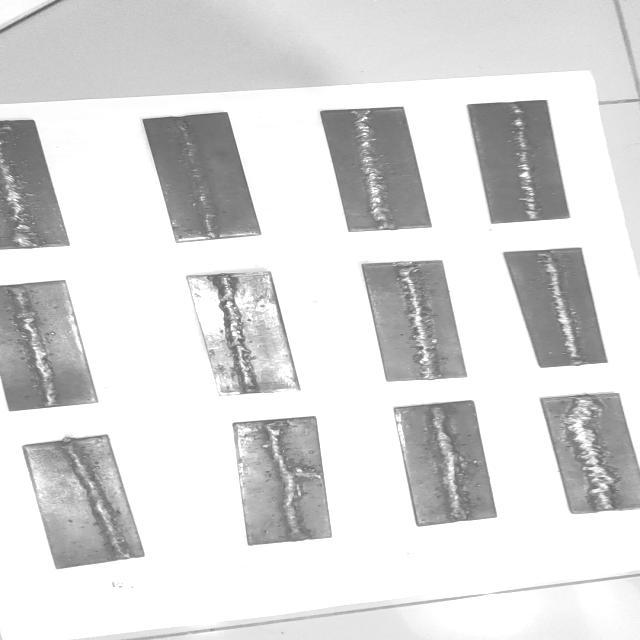Defect: (559, 395, 627, 510), (272, 465, 326, 483)
Welding Line: (59, 441, 129, 559), (556, 397, 620, 512), (173, 118, 226, 238), (208, 274, 261, 394), (8, 287, 59, 407), (394, 263, 442, 380), (536, 250, 584, 365), (352, 111, 398, 230), (264, 421, 308, 540), (0, 134, 44, 249), (508, 101, 544, 221), (428, 404, 464, 520)
Workpiece: (20, 432, 149, 572), (140, 110, 264, 244), (181, 268, 305, 400), (316, 104, 436, 236), (462, 96, 576, 227), (228, 413, 336, 548), (390, 398, 500, 528), (358, 258, 472, 383), (0, 278, 104, 414), (501, 244, 613, 370), (536, 390, 640, 515), (0, 115, 81, 253)
